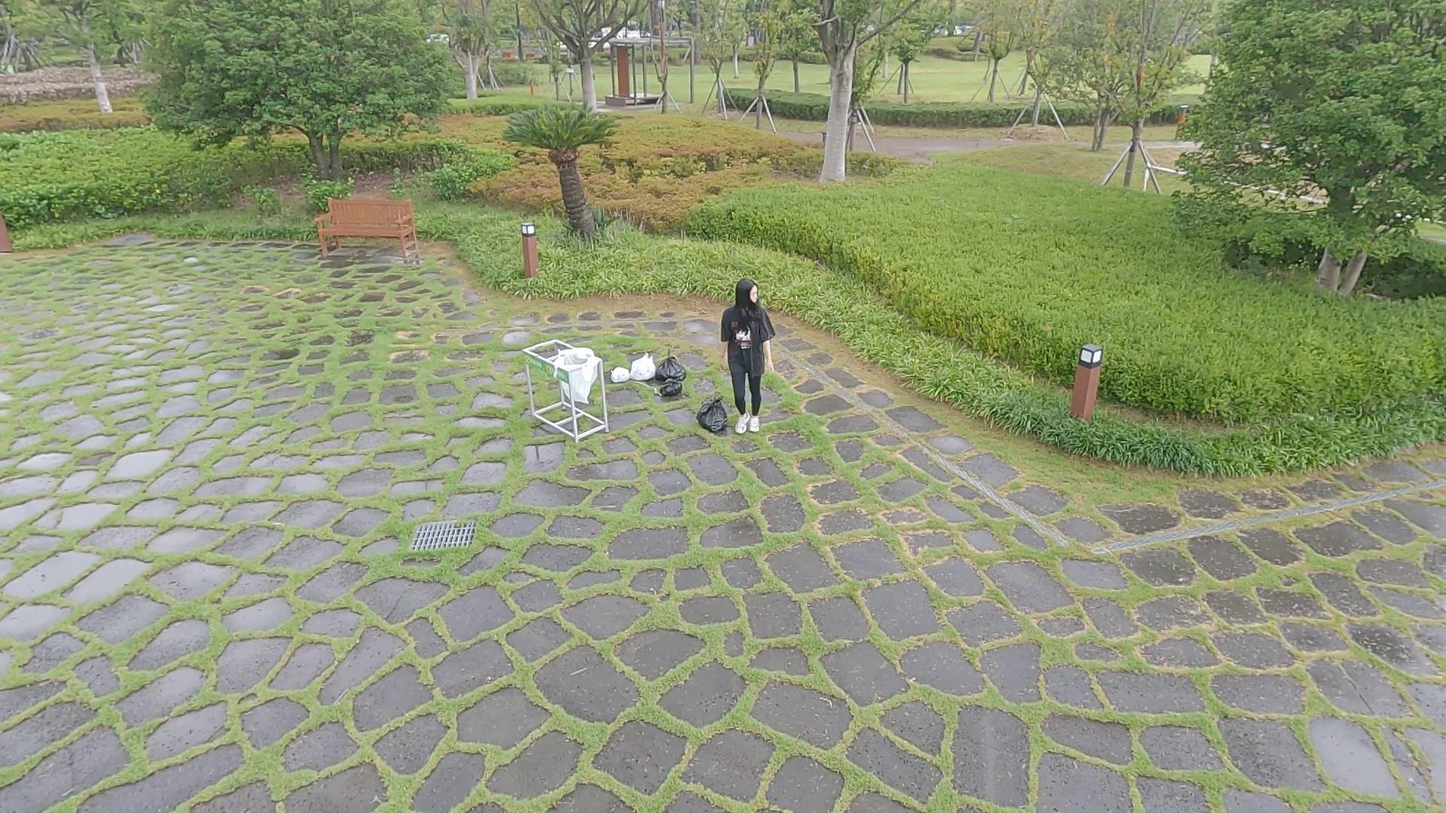person: (719, 277, 776, 435)
trash: (695, 396, 729, 433), (656, 347, 686, 385), (630, 353, 656, 382), (610, 366, 630, 384), (659, 383, 683, 397)
